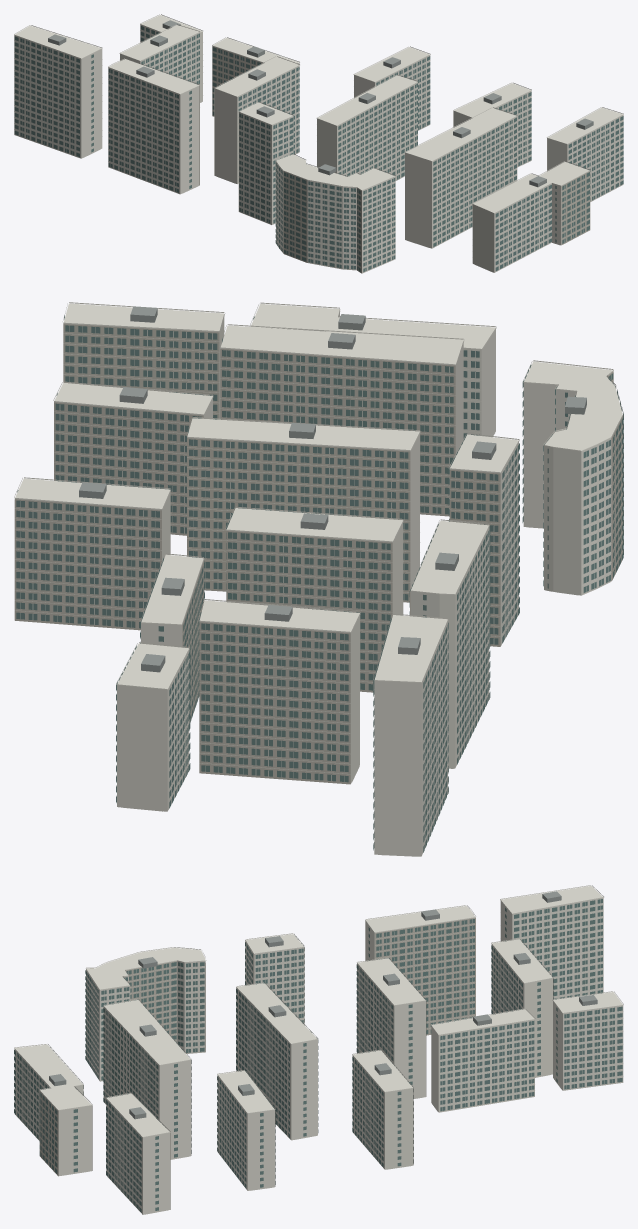
The model's file is representative-a12009203.glb.
3 renders of one model, top to bottom at view 1: azimuth 30°, elevation 25°; view 2: azimuth 150°, elevation 25°; view 3: azimuth 270°, elevation 25°, orthographic. The views are drawn at different scales.
Parts seen in each view (by area): view 1: A12009203_wall001, A12009203_glass001, A12009203_trim001, A12009203_accent001, A12009203_roof001; view 2: A12009203_wall001, A12009203_glass001, A12009203_accent001, A12009203_trim001, A12009203_roof001; view 3: A12009203_wall001, A12009203_glass001, A12009203_trim001, A12009203_accent001, A12009203_roof001.
Part boxes in pixels (box(x1,y1,x2,y2)): A12009203_wall001: box(14, 15, 623, 273); A12009203_glass001: box(14, 26, 623, 271); A12009203_trim001: box(14, 14, 623, 271); A12009203_accent001: box(199, 46, 590, 273); A12009203_roof001: box(48, 20, 593, 187); A12009203_wall001: box(15, 303, 622, 856); A12009203_glass001: box(16, 315, 623, 852); A12009203_accent001: box(14, 324, 623, 784); A12009203_trim001: box(14, 302, 623, 845); A12009203_roof001: box(79, 306, 586, 672); A12009203_wall001: box(14, 886, 623, 1214); A12009203_glass001: box(14, 899, 622, 1212); A12009203_trim001: box(14, 885, 623, 1207); A12009203_accent001: box(39, 918, 553, 1209); A12009203_roof001: box(49, 891, 597, 1119).
Bounding box in the file's own units: 200 × 48.8 × 235.
